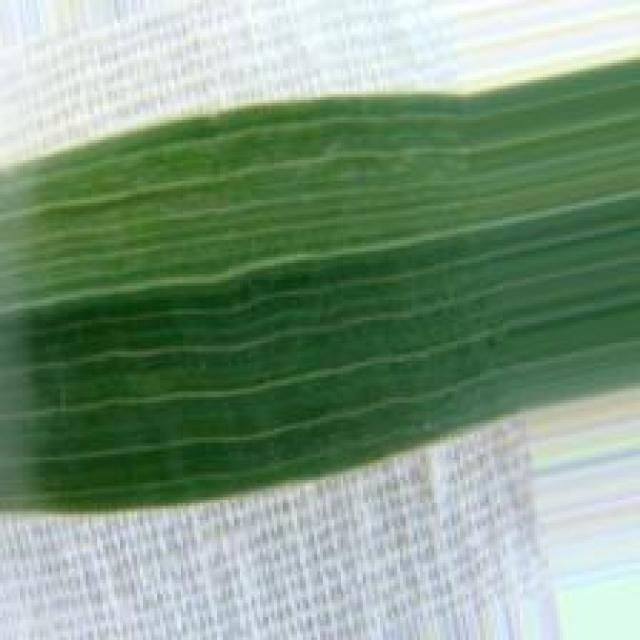Healthy: (0, 56, 640, 514)
